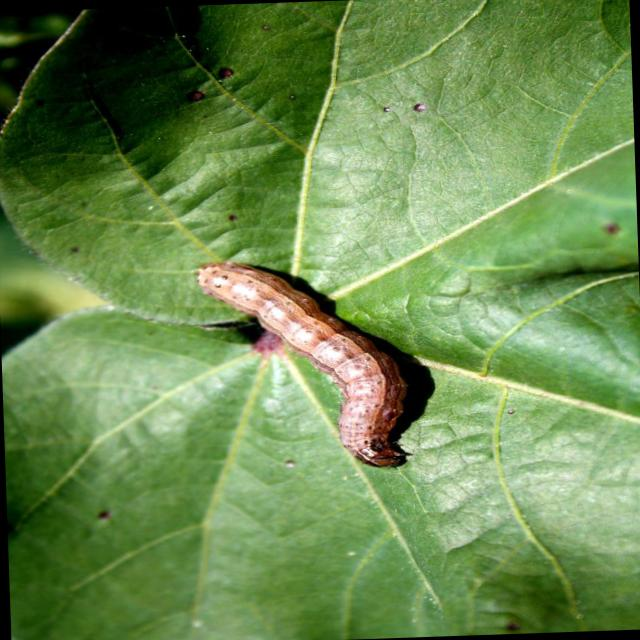Armyworm: (165, 234, 566, 516)
